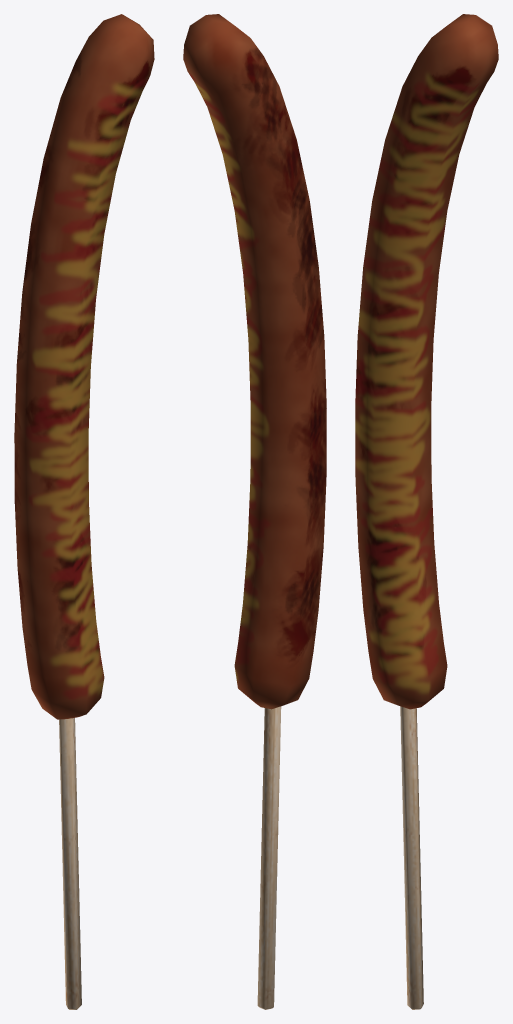
Rendered from FoodProp_B.fbx.
The picture shows the model from 3 angles, left to right: view 1: azimuth 30°, elevation 25°; view 2: azimuth 210°, elevation 25°; view 3: azimuth 330°, elevation 25°; orthographic projection. The views are drawn at different scales.
Visible parts, largest first — view 1: FoodProp_B; view 2: FoodProp_B; view 3: FoodProp_B.
Part boxes in pixels (x1,y1,x2,y2): FoodProp_B: [14, 14, 154, 1009]; FoodProp_B: [183, 14, 326, 1009]; FoodProp_B: [355, 14, 498, 1009].
Bounding box in the file's own units: 0.0758 × 0.5675 × 0.039.
